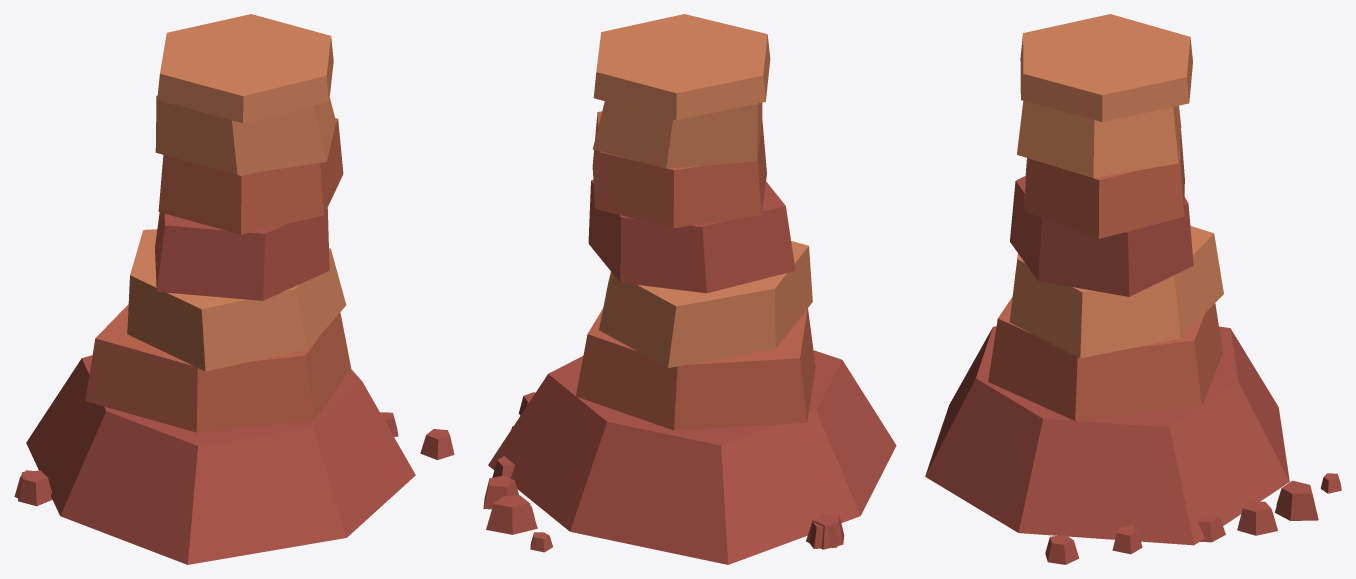
The model's file is mesa_b.glb.
3 views of the same model, side by side, from view 1: azimuth 30°, elevation 25°; view 2: azimuth 150°, elevation 25°; view 3: azimuth 270°, elevation 25° (orthographic).
Visible parts, largest first — view 1: mesa_b_slope, mesa_b_band0, mesa_b_cap, mesa_b_band1, mesa_b_band2, mesa_b_band3, mesa_b_band4, mesa_b_boulders; view 2: mesa_b_slope, mesa_b_band0, mesa_b_cap, mesa_b_band1, mesa_b_band2, mesa_b_band3, mesa_b_band4, mesa_b_boulders; view 3: mesa_b_slope, mesa_b_band0, mesa_b_cap, mesa_b_band1, mesa_b_band2, mesa_b_band3, mesa_b_band4, mesa_b_boulders.
Part boxes in pixels (left/top/right/bottom): mesa_b_slope: left=26, top=355, right=415, bottom=564; mesa_b_band0: left=85, top=304, right=351, bottom=432; mesa_b_cap: left=157, top=14, right=333, bottom=123; mesa_b_band1: left=127, top=229, right=346, bottom=371; mesa_b_band2: left=155, top=208, right=329, bottom=300; mesa_b_band3: left=158, top=118, right=343, bottom=234; mesa_b_band4: left=155, top=95, right=335, bottom=174; mesa_b_boulders: left=14, top=412, right=454, bottom=506; mesa_b_slope: left=488, top=350, right=896, bottom=564; mesa_b_band0: left=576, top=308, right=815, bottom=430; mesa_b_cap: left=593, top=14, right=770, bottom=120; mesa_b_band1: left=599, top=241, right=812, bottom=367; mesa_b_band2: left=588, top=180, right=795, bottom=293; mesa_b_band3: left=592, top=111, right=766, bottom=228; mesa_b_band4: left=592, top=101, right=762, bottom=168; mesa_b_boulders: left=483, top=392, right=844, bottom=552; mesa_b_slope: left=925, top=326, right=1289, bottom=545; mesa_b_band0: left=988, top=297, right=1222, bottom=420; mesa_b_cap: left=1020, top=14, right=1192, bottom=122; mesa_b_band1: left=1009, top=226, right=1223, bottom=358; mesa_b_band2: left=1010, top=176, right=1193, bottom=296; mesa_b_band3: left=1024, top=131, right=1184, bottom=238; mesa_b_band4: left=1017, top=101, right=1181, bottom=177; mesa_b_boulders: left=1045, top=473, right=1341, bottom=564.
Size of the model in its own units: 20.31 by 21.63 by 19.38.
